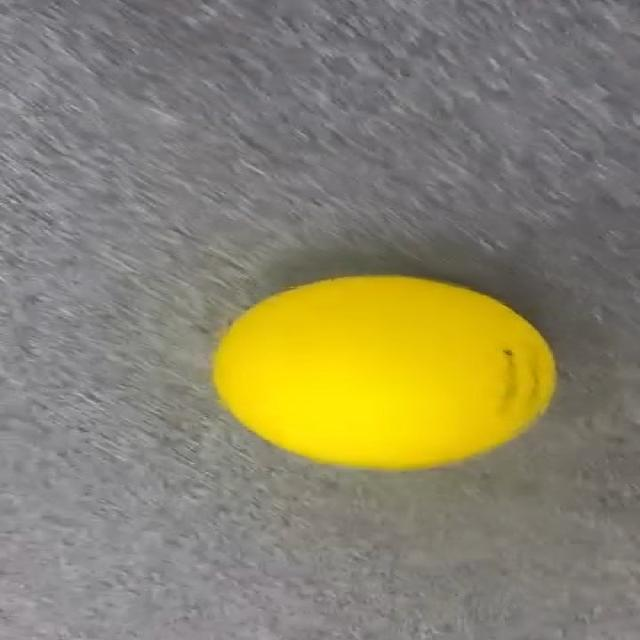Fuels: (215, 277, 551, 464)
